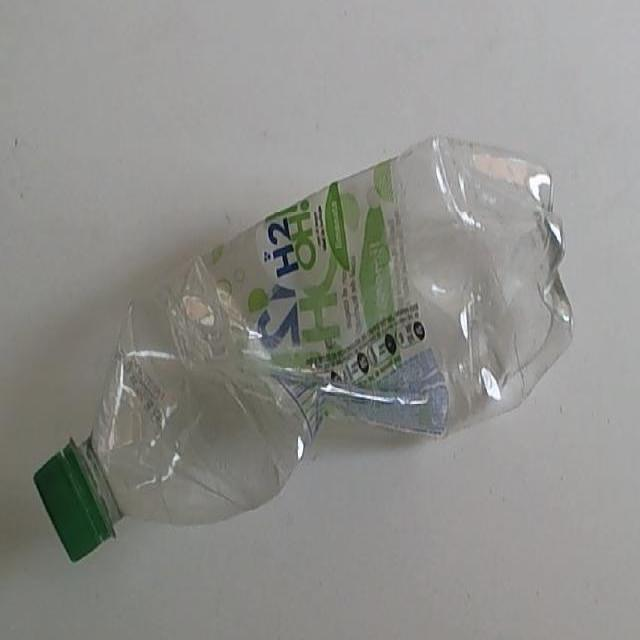defect: (31, 130, 578, 569)
